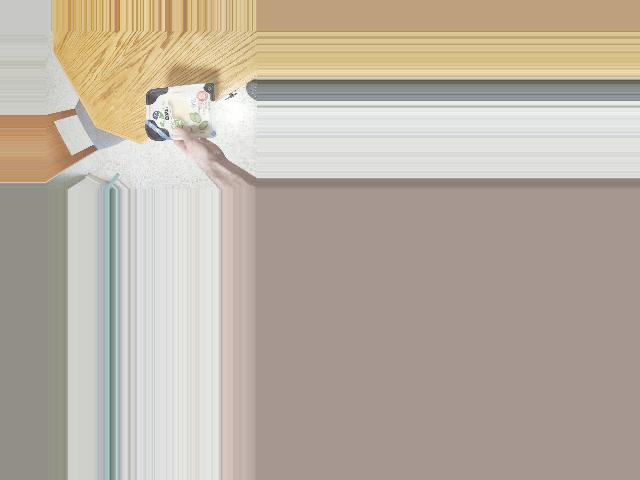cheese: (133, 83, 228, 138)
